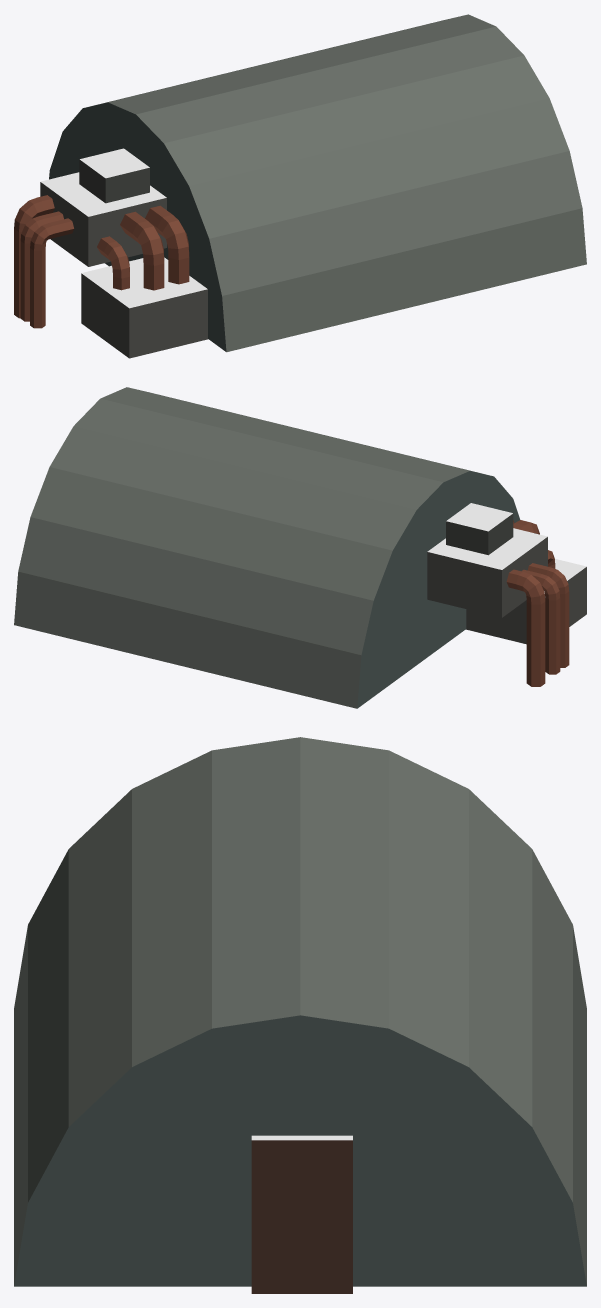
The model's file is Model_Frost_3x2A.fbx.
The picture shows the model from 3 angles, top to bottom: view 1: azimuth 30°, elevation 25°; view 2: azimuth 150°, elevation 25°; view 3: azimuth 270°, elevation 25°; orthographic projection. The views are drawn at different scales.
Parts seen in each view (by area): view 1: xueshan_fangwu_2_3; view 2: xueshan_fangwu_2_3; view 3: xueshan_fangwu_2_3.
Part boxes in pixels (<box>): xueshan_fangwu_2_3: <box>14,14,586,358</box>; xueshan_fangwu_2_3: <box>14,387,586,708</box>; xueshan_fangwu_2_3: <box>14,737,586,1293</box>.
Size of the model in its own units: 588 by 209 by 382.
1 material, 1 textured.
